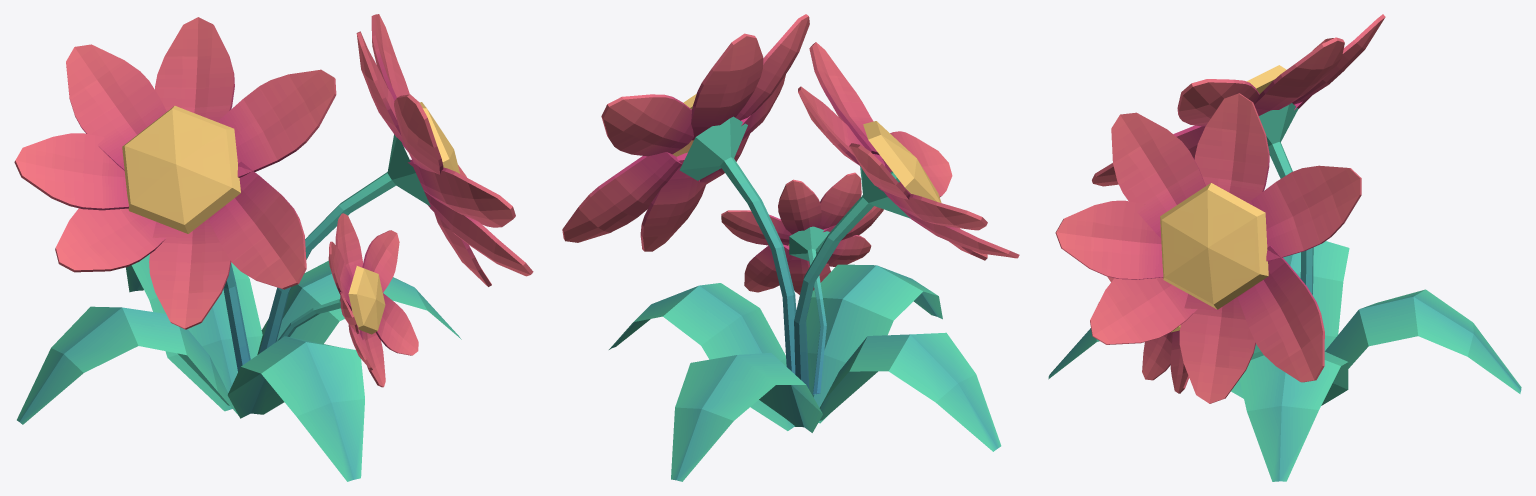
The model's file is flower002.obj.
The picture shows the model from 3 angles, left to right: view 1: azimuth 30°, elevation 25°; view 2: azimuth 150°, elevation 25°; view 3: azimuth 270°, elevation 25°; orthographic projection. The views are drawn at different scales.
Parts seen in each view (by area): view 1: flower.002; view 2: flower.002; view 3: flower.002.
Part boxes in pixels (bbox=[...]): flower.002: bbox=[14, 14, 533, 481]; flower.002: bbox=[562, 14, 1019, 481]; flower.002: bbox=[1048, 14, 1521, 481].
Size of the model in its own units: 2.29 by 1.82 by 2.15.
Materials: 1 (1 with a texture image).
